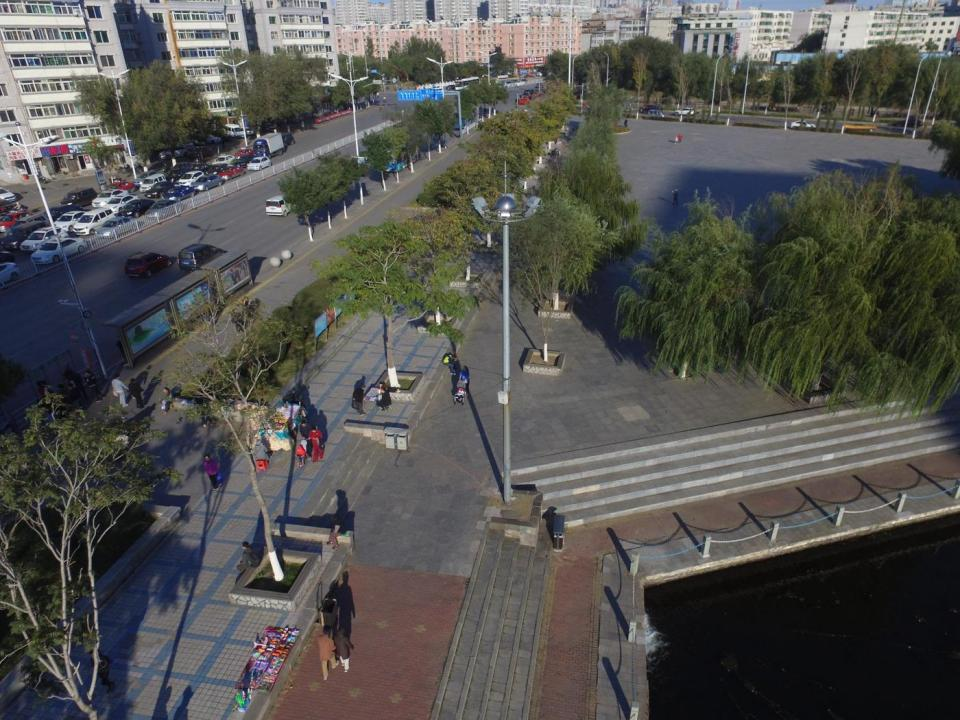bus: (377, 138, 421, 171), (452, 108, 482, 131), (455, 76, 481, 91)
car: (29, 236, 91, 265), (4, 214, 55, 245), (20, 225, 70, 254), (178, 242, 228, 271), (73, 207, 119, 237), (125, 251, 171, 277), (41, 205, 86, 228), (265, 194, 305, 219), (51, 210, 96, 232), (96, 218, 138, 241), (100, 194, 141, 216), (144, 198, 184, 220), (117, 198, 157, 219), (90, 189, 132, 209), (1, 209, 35, 233), (142, 181, 184, 199), (162, 184, 197, 202), (102, 180, 137, 198), (192, 174, 226, 192), (168, 162, 200, 180), (359, 146, 385, 165), (214, 165, 246, 180), (158, 144, 188, 160), (177, 171, 207, 187), (184, 163, 213, 178), (132, 171, 161, 186), (186, 145, 215, 159), (247, 156, 273, 171), (211, 154, 238, 167), (204, 163, 230, 176), (197, 131, 221, 145), (232, 154, 257, 167), (896, 118, 924, 129), (789, 120, 817, 131), (168, 136, 196, 147), (233, 147, 256, 160), (183, 134, 206, 146), (275, 133, 296, 146), (638, 103, 662, 114), (246, 121, 264, 135), (258, 120, 276, 134), (582, 100, 604, 111), (282, 113, 304, 124), (642, 105, 663, 116), (674, 108, 696, 118), (681, 105, 702, 114), (516, 94, 530, 106), (524, 89, 537, 100), (431, 86, 443, 94), (446, 84, 456, 92), (526, 71, 538, 77), (514, 80, 524, 87), (532, 70, 543, 76), (536, 82, 545, 89), (511, 78, 521, 84), (501, 80, 509, 87), (520, 78, 529, 84), (500, 82, 508, 88), (507, 80, 515, 86), (380, 104, 384, 115)
truck: (252, 132, 287, 160)
van: (1, 220, 52, 252), (58, 186, 100, 210), (139, 173, 172, 194), (223, 122, 245, 139), (614, 102, 633, 112), (647, 109, 665, 118)
